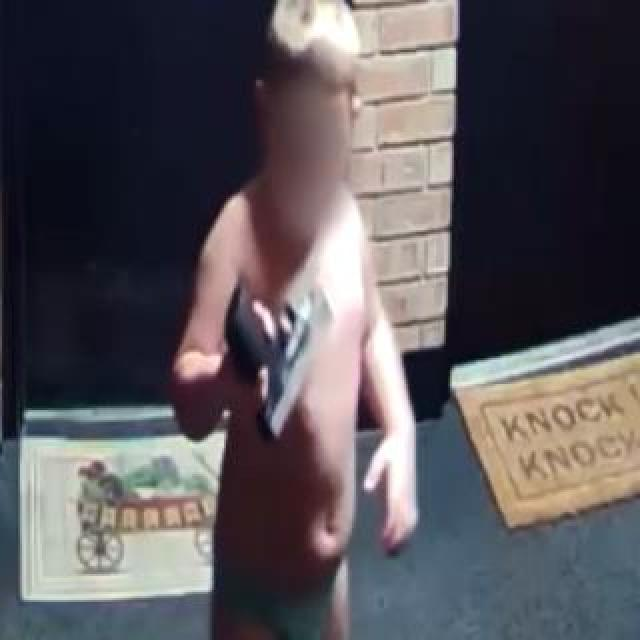Guns: (226, 267, 344, 455)
